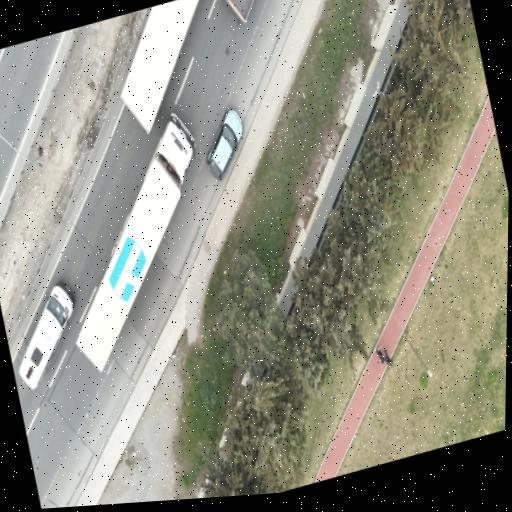car: (18, 284, 72, 388), (205, 108, 242, 179)
person: (383, 349, 392, 367), (375, 347, 383, 362)
truck: (76, 113, 194, 370), (120, 0, 197, 131), (226, 0, 253, 21)
